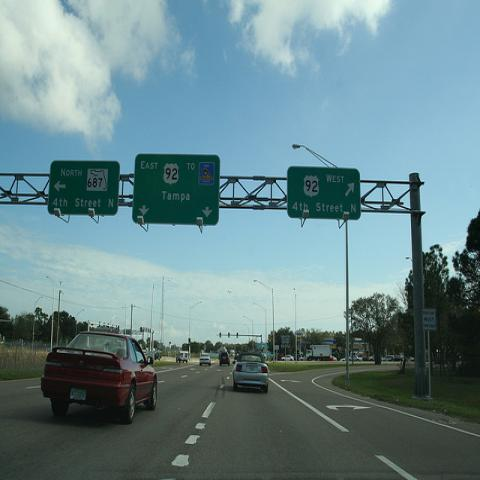car: (40, 330, 158, 423), (232, 353, 270, 391), (176, 350, 189, 364), (349, 355, 362, 362), (282, 355, 294, 361), (391, 356, 403, 361)
truck: (306, 345, 330, 361), (219, 344, 230, 368), (176, 350, 190, 364), (199, 352, 211, 366)
